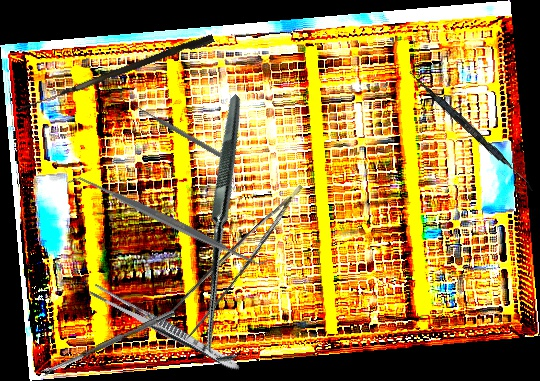Dressing Forceps: (86, 281, 244, 376)
Hook Surgical: (93, 93, 367, 368), (17, 30, 215, 120)
Pusher: (131, 101, 235, 166)
Spatula Surgical: (66, 163, 269, 279), (404, 69, 539, 192)
Surgical Spoon: (40, 308, 176, 377)
Tissue Forceps: (155, 184, 325, 346)
